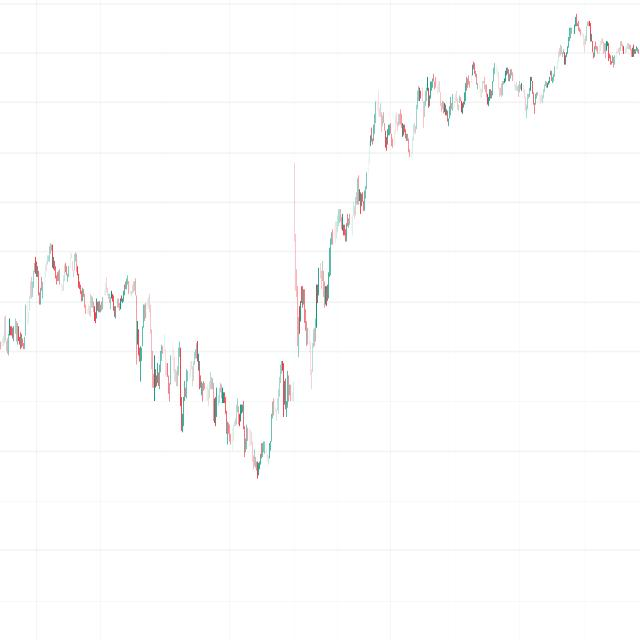Resistance-Emerging: (366, 57, 538, 154)
Rising-Wedge: (288, 160, 370, 415)
